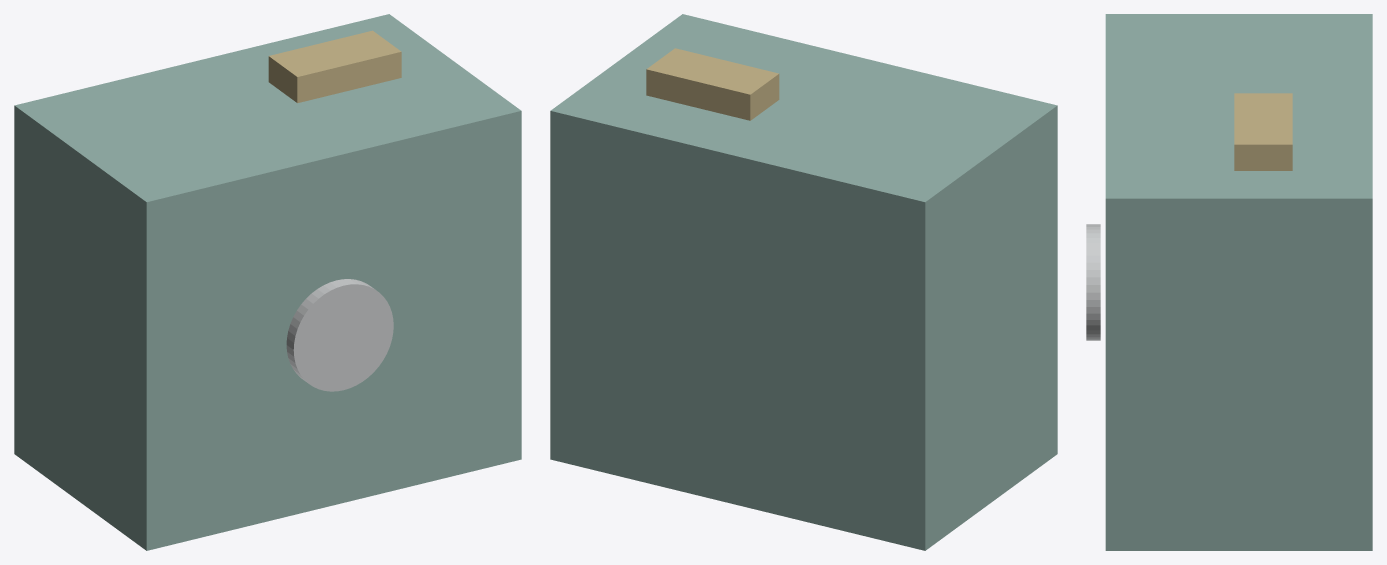
Rendered from module.glb.
3 renders of one model, left to right at view 1: azimuth 30°, elevation 25°; view 2: azimuth 150°, elevation 25°; view 3: azimuth 270°, elevation 25°, orthographic.
Parts seen in each view (by area): view 1: world; view 2: world; view 3: world.
Boxes of the visible parts, <box> form: world: <box>14,14,521,550</box>; world: <box>550,14,1057,550</box>; world: <box>1086,14,1372,550</box>.
Bounding box in the file's own units: 0.09 × 0.09 × 0.059.
